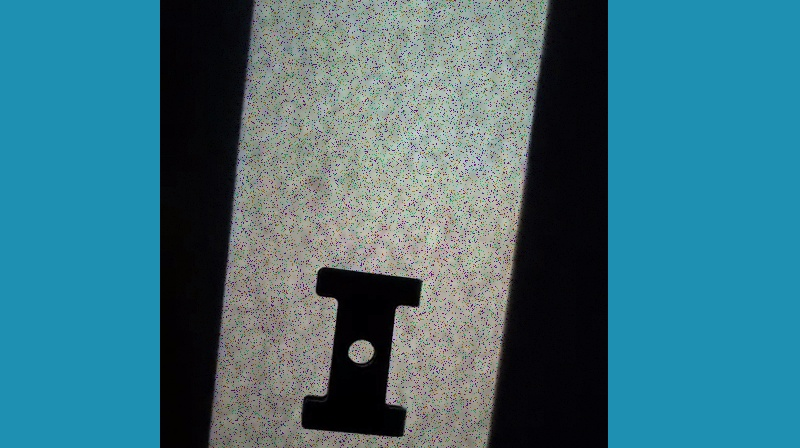O002: (297, 262, 427, 442)
